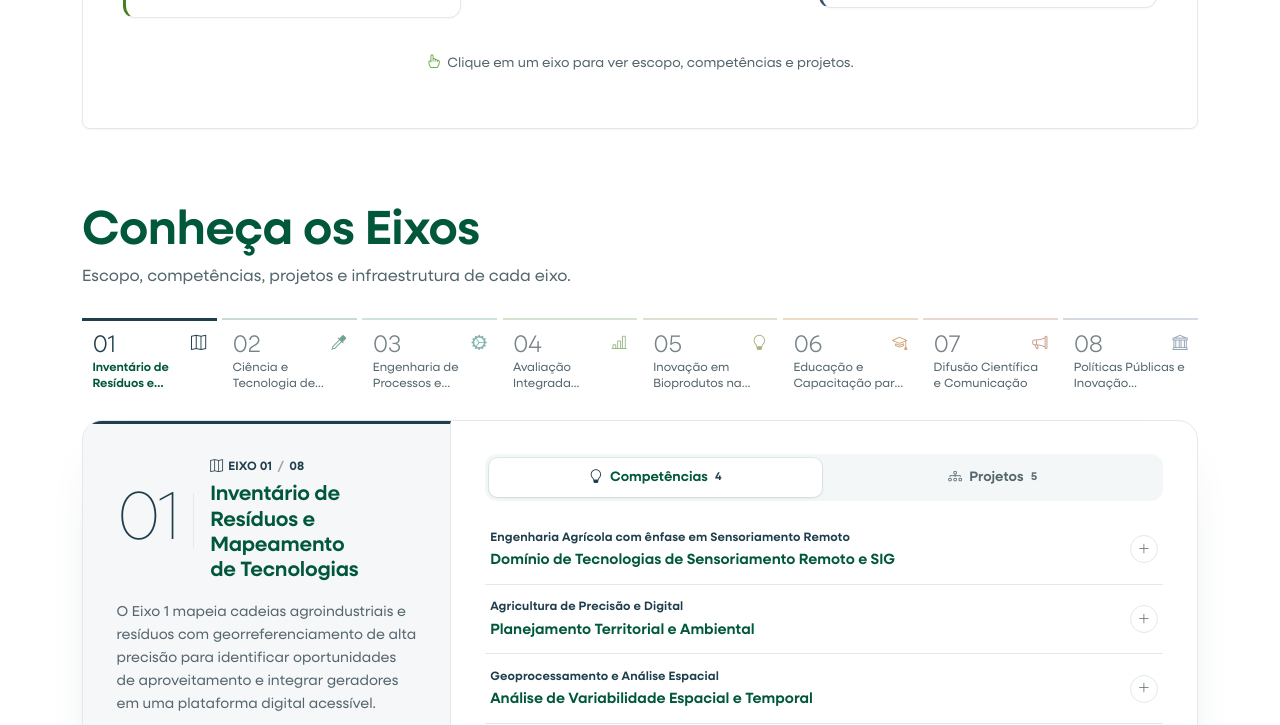
Test case: Research › drills down from an axis into its activity branches
(page scrolled)
Click the tab with class "axx-tab" that starts with "Ciência e Tecnologia de Base": [290, 362] box [222,318,357,406]
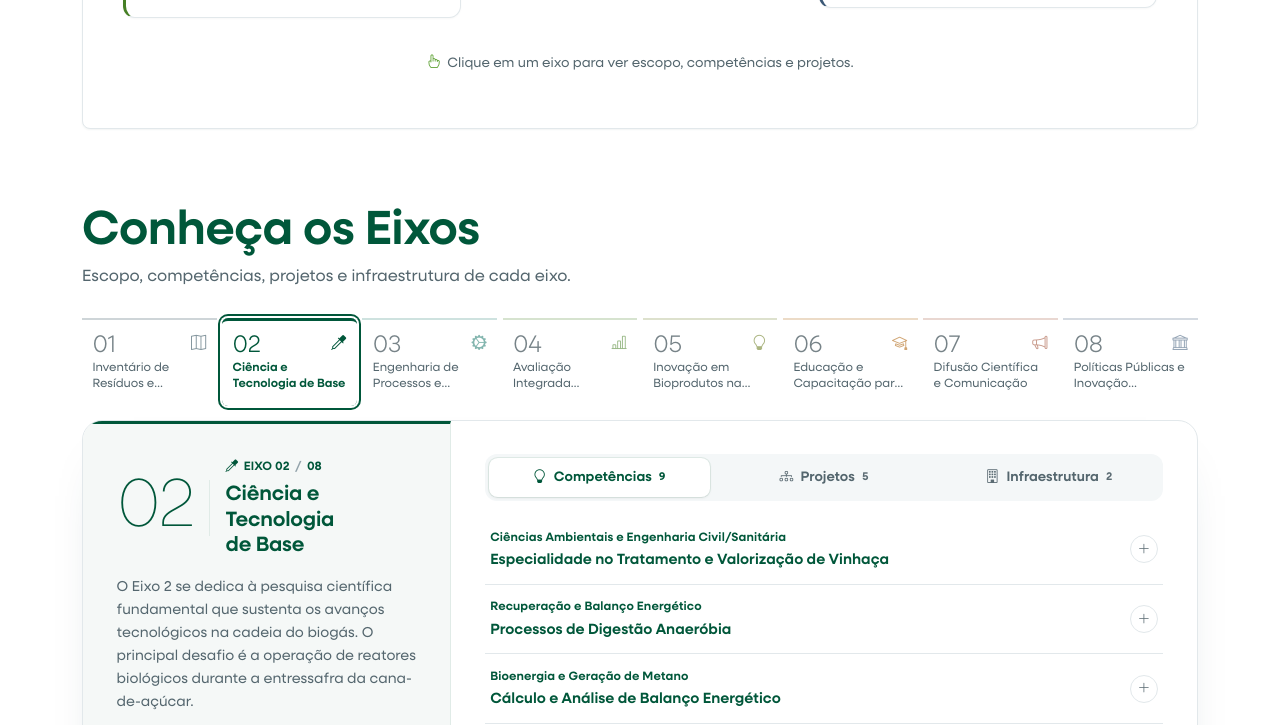
Expected: the button with class "axx-branch" showing "Competências 9" is shown, [489,458,710,497]
Result: the number of elements with class "axx-branch__count" is 3 at [659,469,665,486]; [862,469,868,486]; [1106,469,1112,486]
